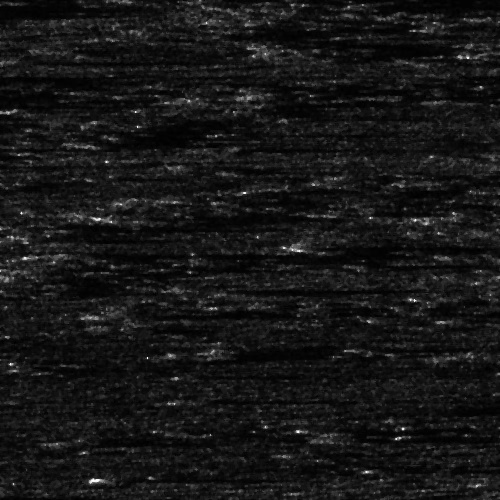object: (257, 240, 382, 251), (46, 308, 171, 319), (0, 52, 58, 67), (45, 137, 108, 146), (175, 285, 238, 292), (337, 0, 390, 8), (88, 474, 141, 479), (207, 346, 260, 351), (163, 396, 216, 401), (50, 249, 81, 256)
shadow: (6, 52, 199, 67), (66, 249, 363, 256), (319, 240, 500, 251), (109, 308, 280, 319), (0, 71, 138, 82), (207, 285, 387, 292), (76, 137, 203, 146), (364, 0, 500, 8), (0, 4, 147, 11), (114, 474, 293, 479), (234, 346, 352, 351), (190, 396, 308, 401), (0, 492, 65, 499), (0, 160, 29, 169)
